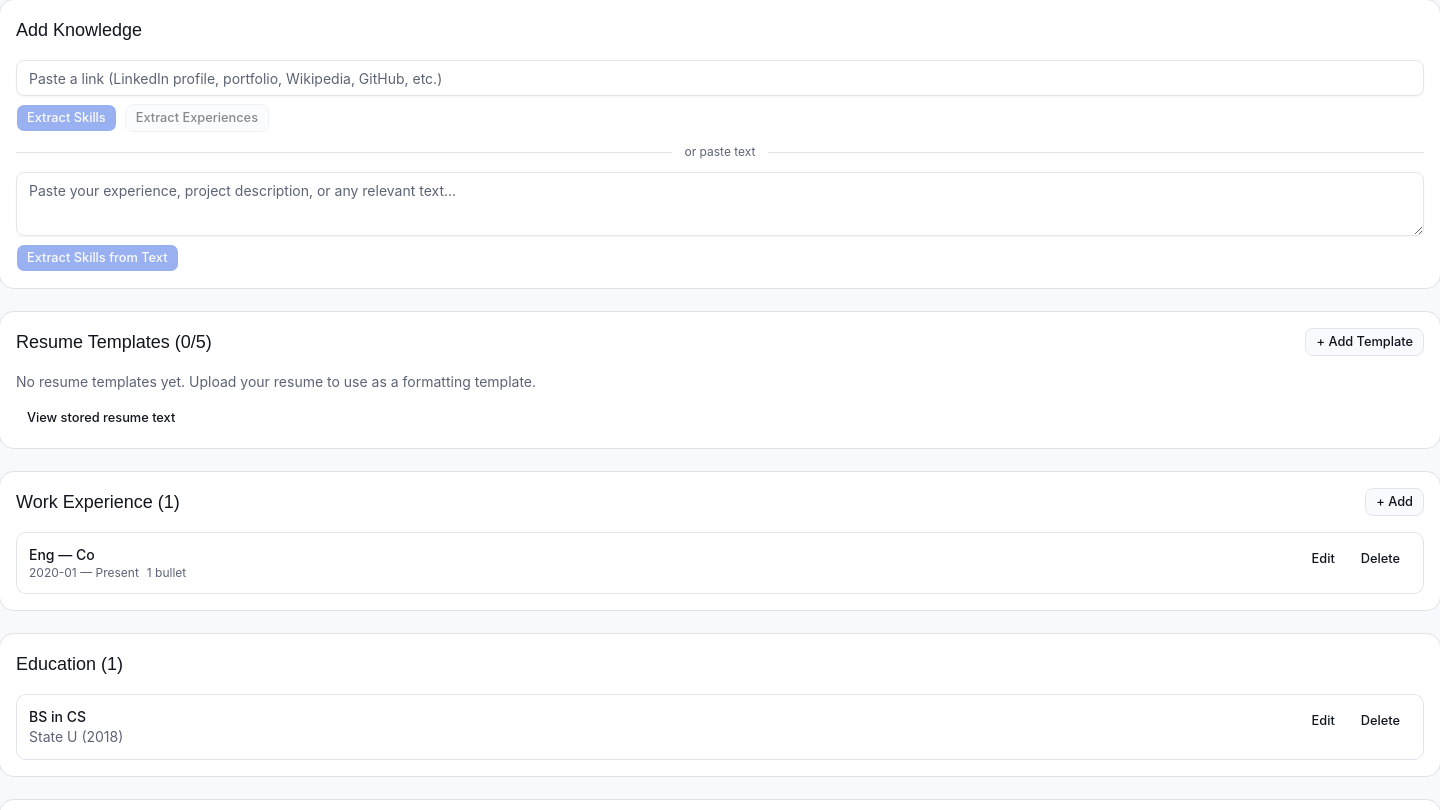
Test case: KnowledgeBank — delete handlers › toasts an error when deleteEducation throws
The width and height of the screenshot is (1440, 810).
Check: the text "Education (1)" is shown, box [16,654,123,674]
Click the button "Delete" in the row of "(2018)" at (1380, 721), box [1350,707,1411,735]
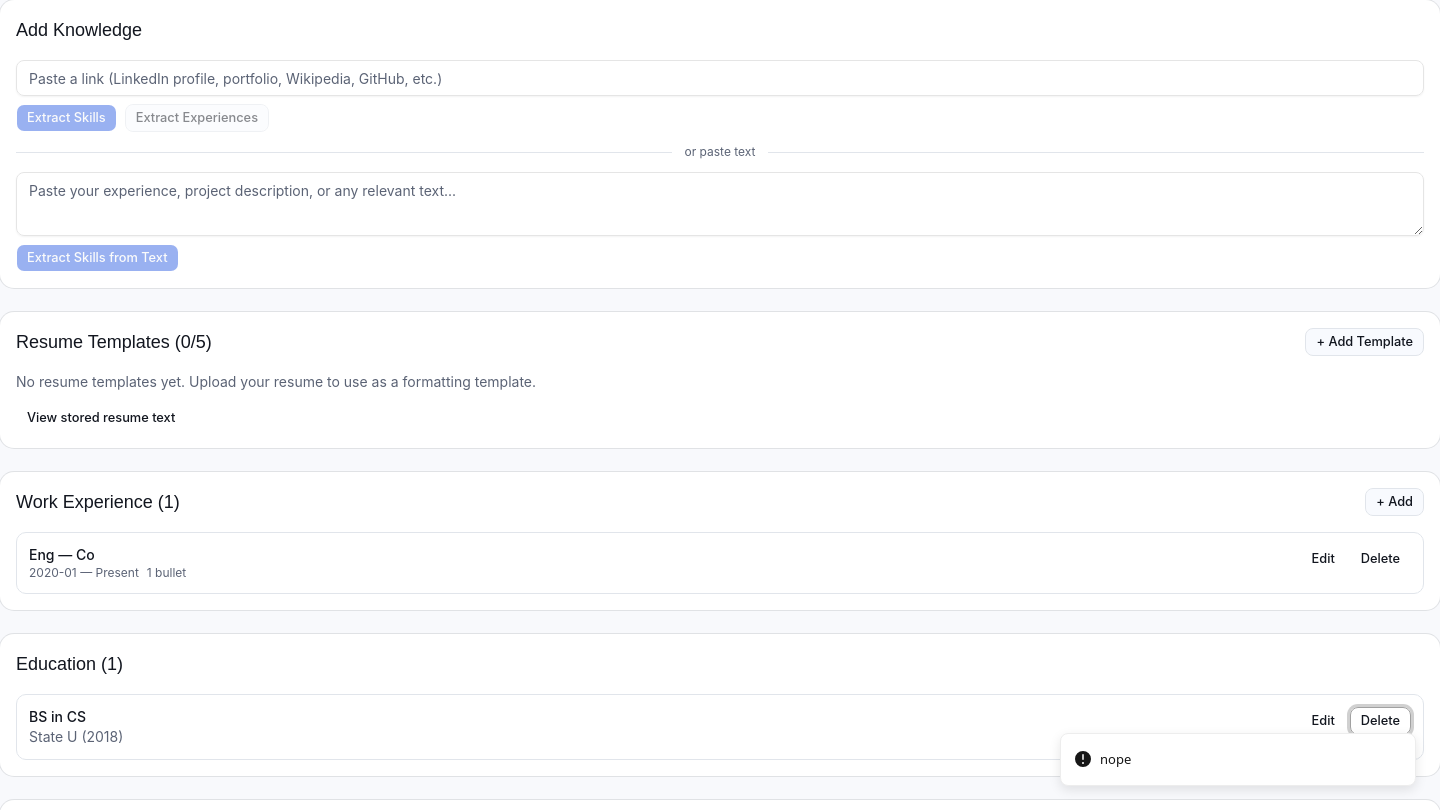
Check: the text "nope" is shown, box [1100,750,1131,769]
